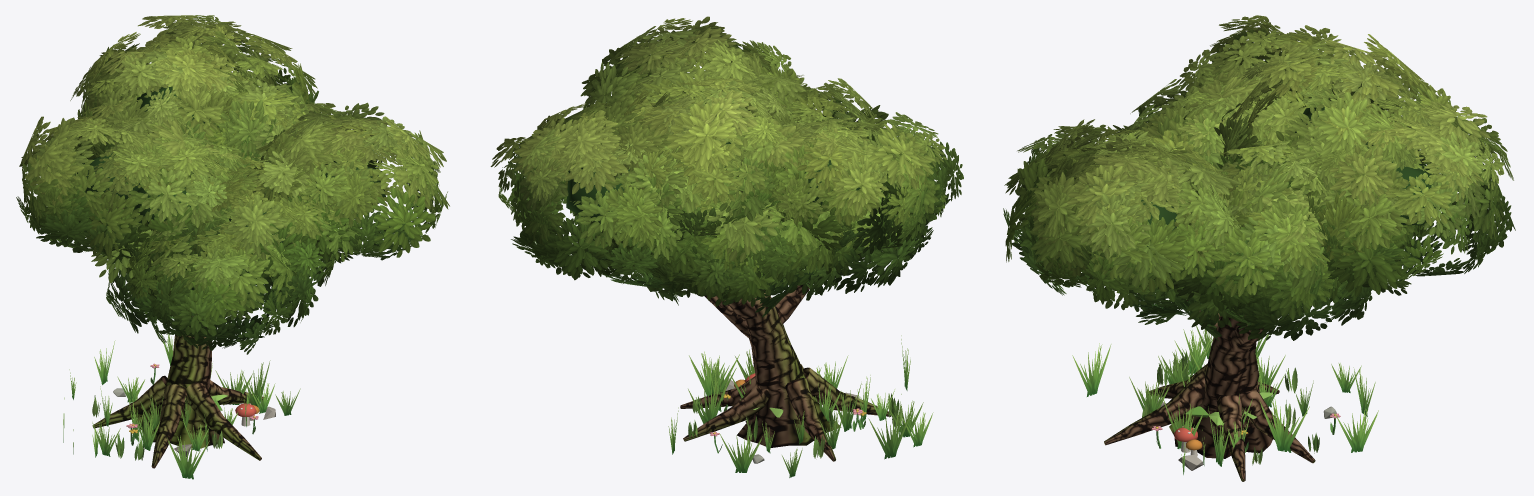
The model's file is tree_wide.gltf.
3 views of the same model, side by side, from view 1: azimuth 30°, elevation 25°; view 2: azimuth 150°, elevation 25°; view 3: azimuth 270°, elevation 25° (orthographic). The views are drawn at different scales.
Parts seen in each view (by area): view 1: Canopy_summer, Trunk, Undergrowth, Base; view 2: Canopy_summer, Trunk, Undergrowth, Base; view 3: Canopy_summer, Trunk, Undergrowth, Base.
Part boxes in pixels (left/top/right/bottom): Canopy_summer: left=16, top=15, right=449, bottom=354; Trunk: left=92, top=208, right=264, bottom=468; Undergrowth: left=63, top=334, right=300, bottom=479; Base: left=92, top=363, right=275, bottom=460; Canopy_summer: left=490, top=16, right=963, bottom=317; Trunk: left=680, top=283, right=890, bottom=461; Undergrowth: left=668, top=335, right=933, bottom=477; Base: left=688, top=373, right=901, bottom=463; Canopy_summer: left=1003, top=15, right=1515, bottom=341; Trunk: left=1104, top=271, right=1315, bottom=481; Undergrowth: left=1072, top=326, right=1378, bottom=474; Base: left=1142, top=352, right=1340, bottom=470.
Bounding box in the file's own units: 6.1 × 5.51 × 6.42.
Materials: 18 (2 with a texture image).
